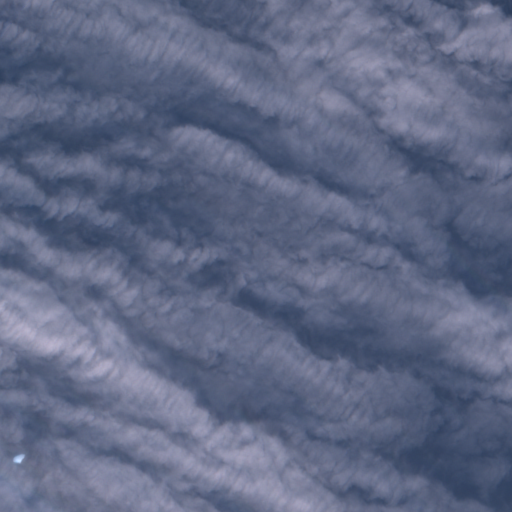Iceberg: (13, 454, 24, 462)
